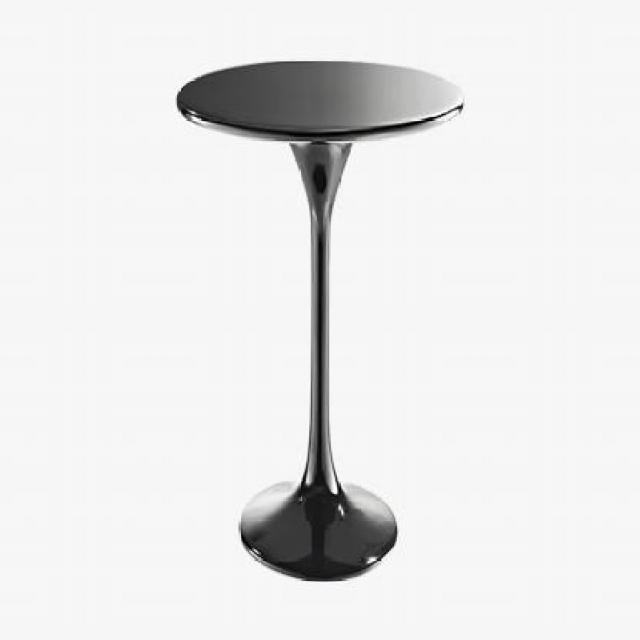table: (174, 57, 466, 583)
